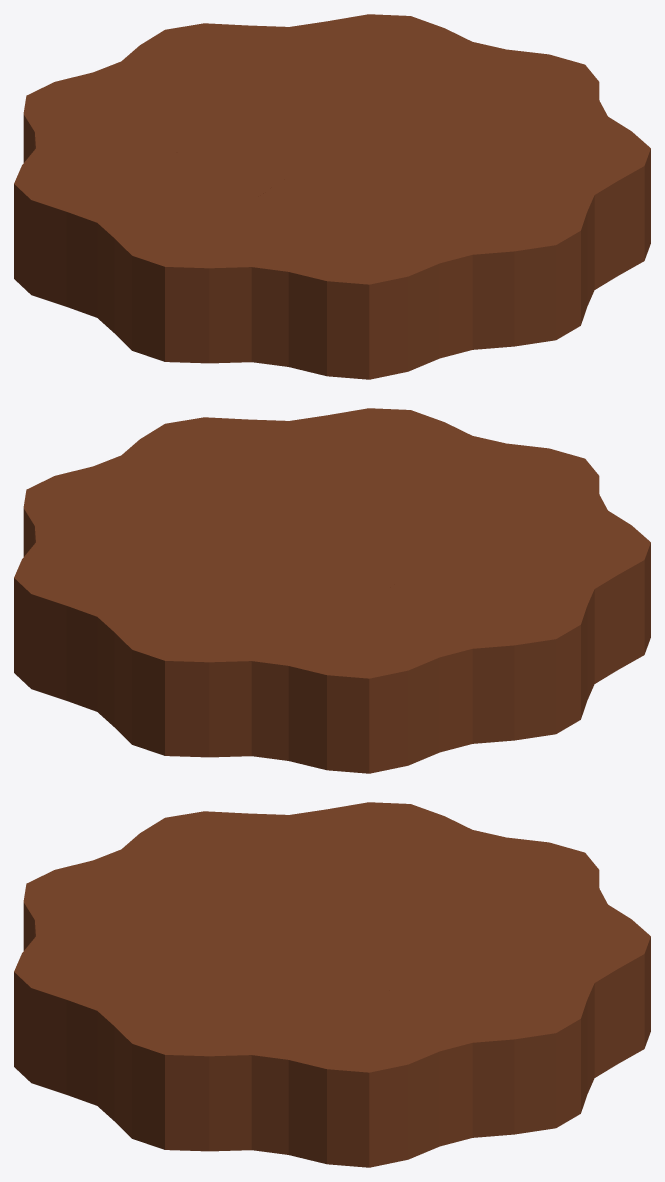
File: ingredient-patty.glb
3 renders of one model, top to bottom at view 1: azimuth 30°, elevation 25°; view 2: azimuth 150°, elevation 25°; view 3: azimuth 270°, elevation 25°, orthographic.
Parts seen in each view (by area): view 1: IngredientPatty; view 2: IngredientPatty; view 3: IngredientPatty.
Boxes of the visible parts, left/top/right/bottom form: IngredientPatty: left=14, top=14, right=650, bottom=379; IngredientPatty: left=14, top=408, right=650, bottom=773; IngredientPatty: left=14, top=802, right=650, bottom=1167.
Size of the model in its own units: 1.22 by 0.2 by 1.21.
